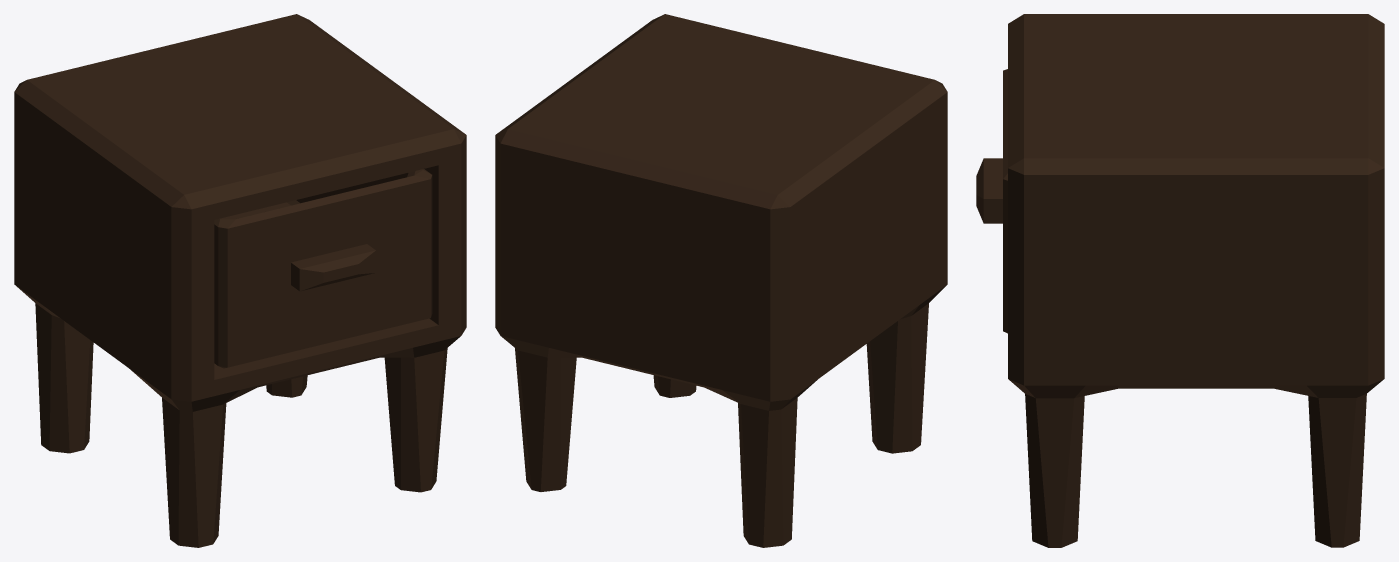
File: nightTable_temp.fbx
3 views of the same model, side by side, from view 1: azimuth 30°, elevation 25°; view 2: azimuth 150°, elevation 25°; view 3: azimuth 270°, elevation 25° (orthographic). The views are drawn at different scales.
Visible parts, largest first — view 1: nightTable, drawer, handle; view 2: nightTable; view 3: nightTable, handle, drawer.
Boxes of the visible parts, box(x1,y1,x2,y2) form: nightTable: box(14, 14, 466, 547); drawer: box(214, 169, 432, 368); handle: box(291, 244, 375, 291); nightTable: box(495, 14, 947, 547); nightTable: box(1008, 14, 1384, 547); handle: box(976, 158, 1002, 223); drawer: box(1003, 69, 1007, 333).
Size of the model in its own units: 71.38 by 83.77 by 78.05.
